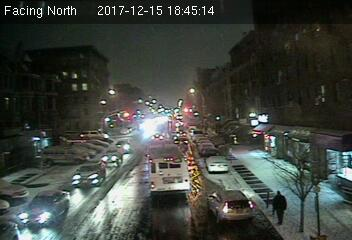bus: (147, 140, 191, 195)
car: (14, 188, 70, 225), (206, 188, 254, 223), (73, 164, 104, 188), (205, 156, 229, 174), (101, 149, 122, 165), (114, 138, 134, 153)
pedestrian: (271, 188, 288, 228)
